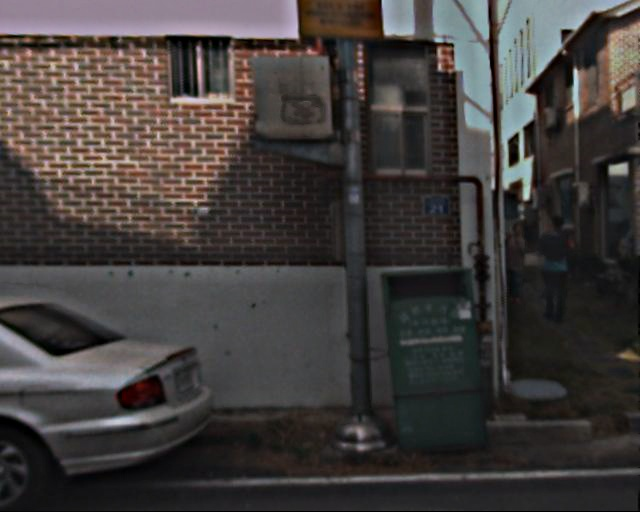person: (527, 210, 579, 323), (493, 220, 534, 309)
